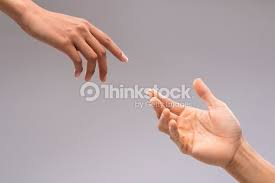hand: (18, 4, 148, 92), (151, 67, 255, 170)
